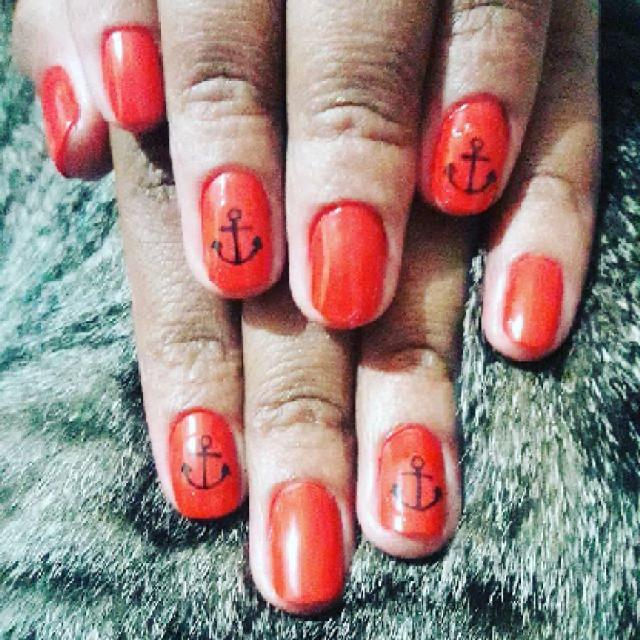Nail: (430, 92, 509, 215), (311, 200, 388, 326), (269, 480, 341, 604), (201, 169, 271, 294), (378, 424, 446, 539), (170, 409, 240, 518), (101, 26, 165, 132), (502, 254, 564, 351), (40, 66, 79, 173)
